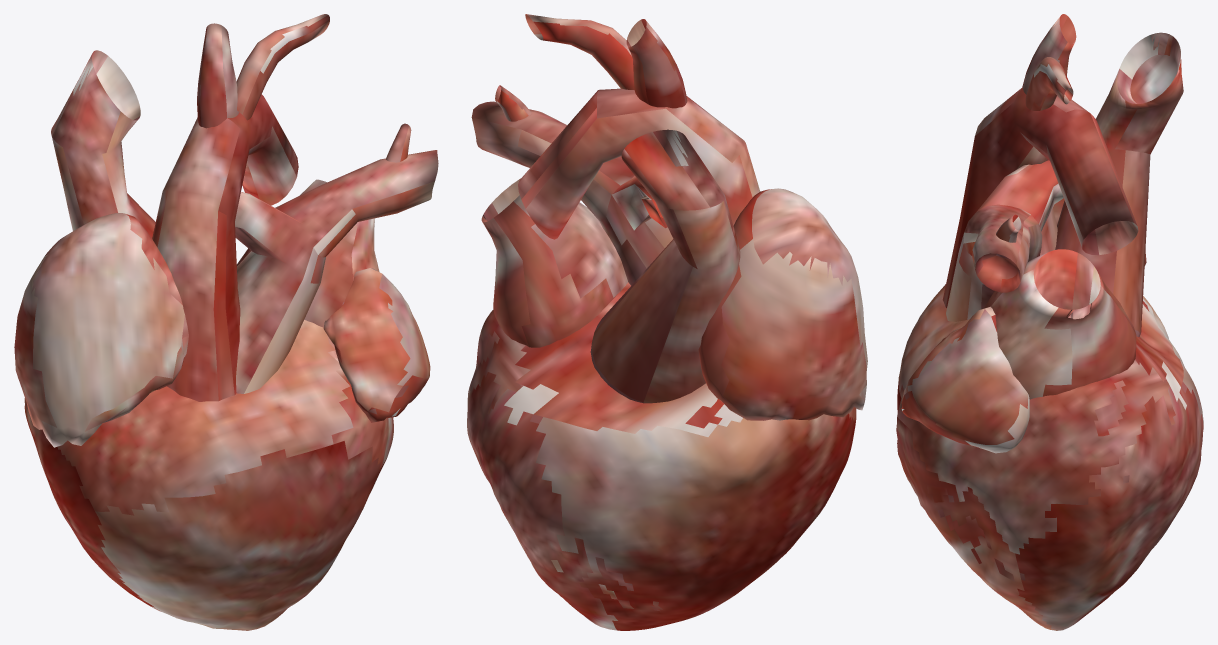
File: Heart_2.fbx
3 views of the same model, side by side, from view 1: azimuth 30°, elevation 25°; view 2: azimuth 150°, elevation 25°; view 3: azimuth 270°, elevation 25° (orthographic). The views are drawn at different scales.
Parts seen in each view (by area): view 1: Hearth; view 2: Hearth; view 3: Hearth.
Boxes of the visible parts, x1,y1,x2,y2 form: Hearth: [14, 14, 438, 630]; Hearth: [467, 14, 867, 630]; Hearth: [896, 14, 1203, 630].
Size of the model in its own units: 6.78 by 10.03 by 4.69.
